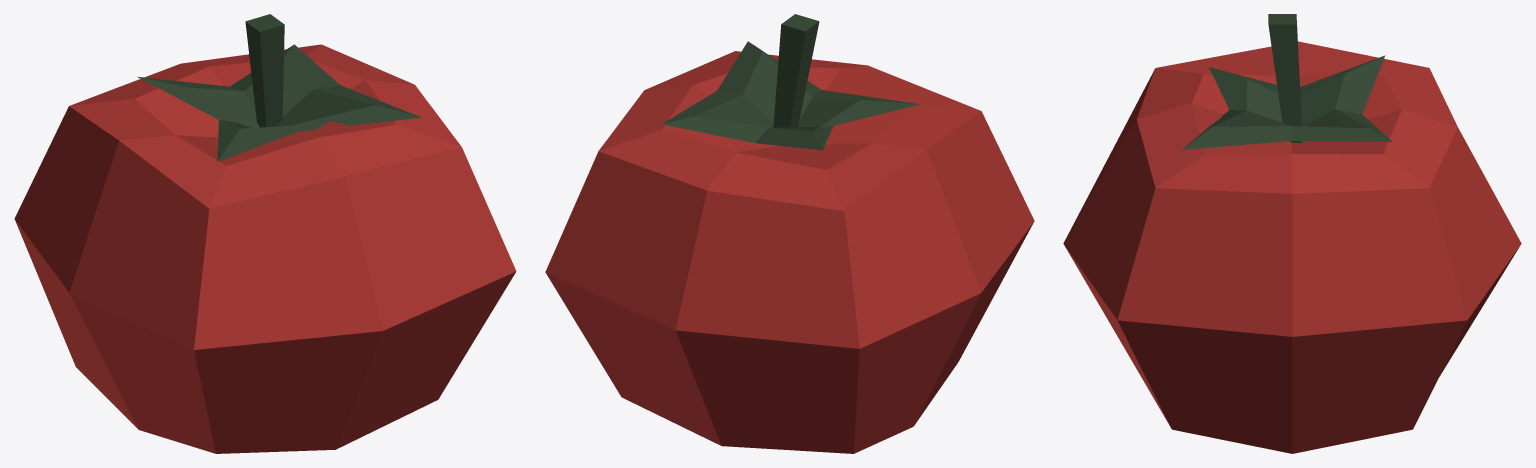
File: tomatoWithStem.fbx
3 views of the same model, side by side, from view 1: azimuth 30°, elevation 25°; view 2: azimuth 150°, elevation 25°; view 3: azimuth 270°, elevation 25° (orthographic). The views are drawn at different scales.
Visible parts, largest first — view 1: tomatoWithStem; view 2: tomatoWithStem; view 3: tomatoWithStem.
Boxes of the visible parts, x1=… form: tomatoWithStem: x1=14, y1=14, x2=516, y2=453; tomatoWithStem: x1=545, y1=14, x2=1034, y2=453; tomatoWithStem: x1=1063, y1=14, x2=1521, y2=453.
Bounding box in the file's own units: 10.63 × 10.27 × 11.02.
1 material, 1 textured.
